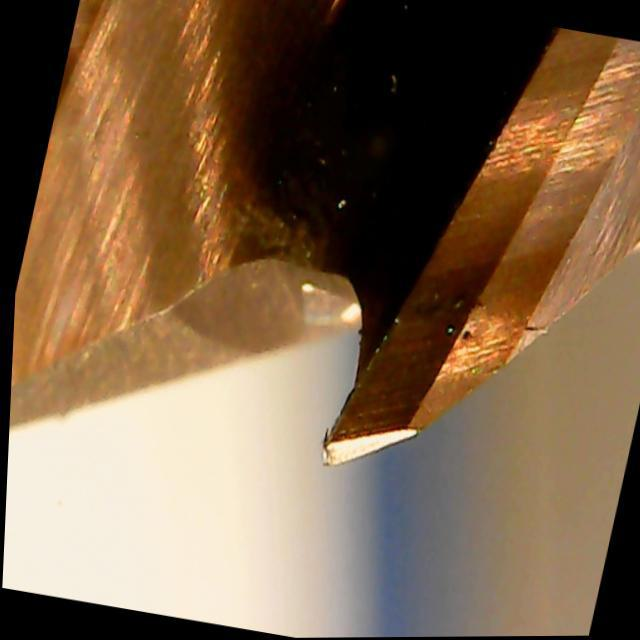Tool-wear-class-1: (267, 258, 497, 501)
